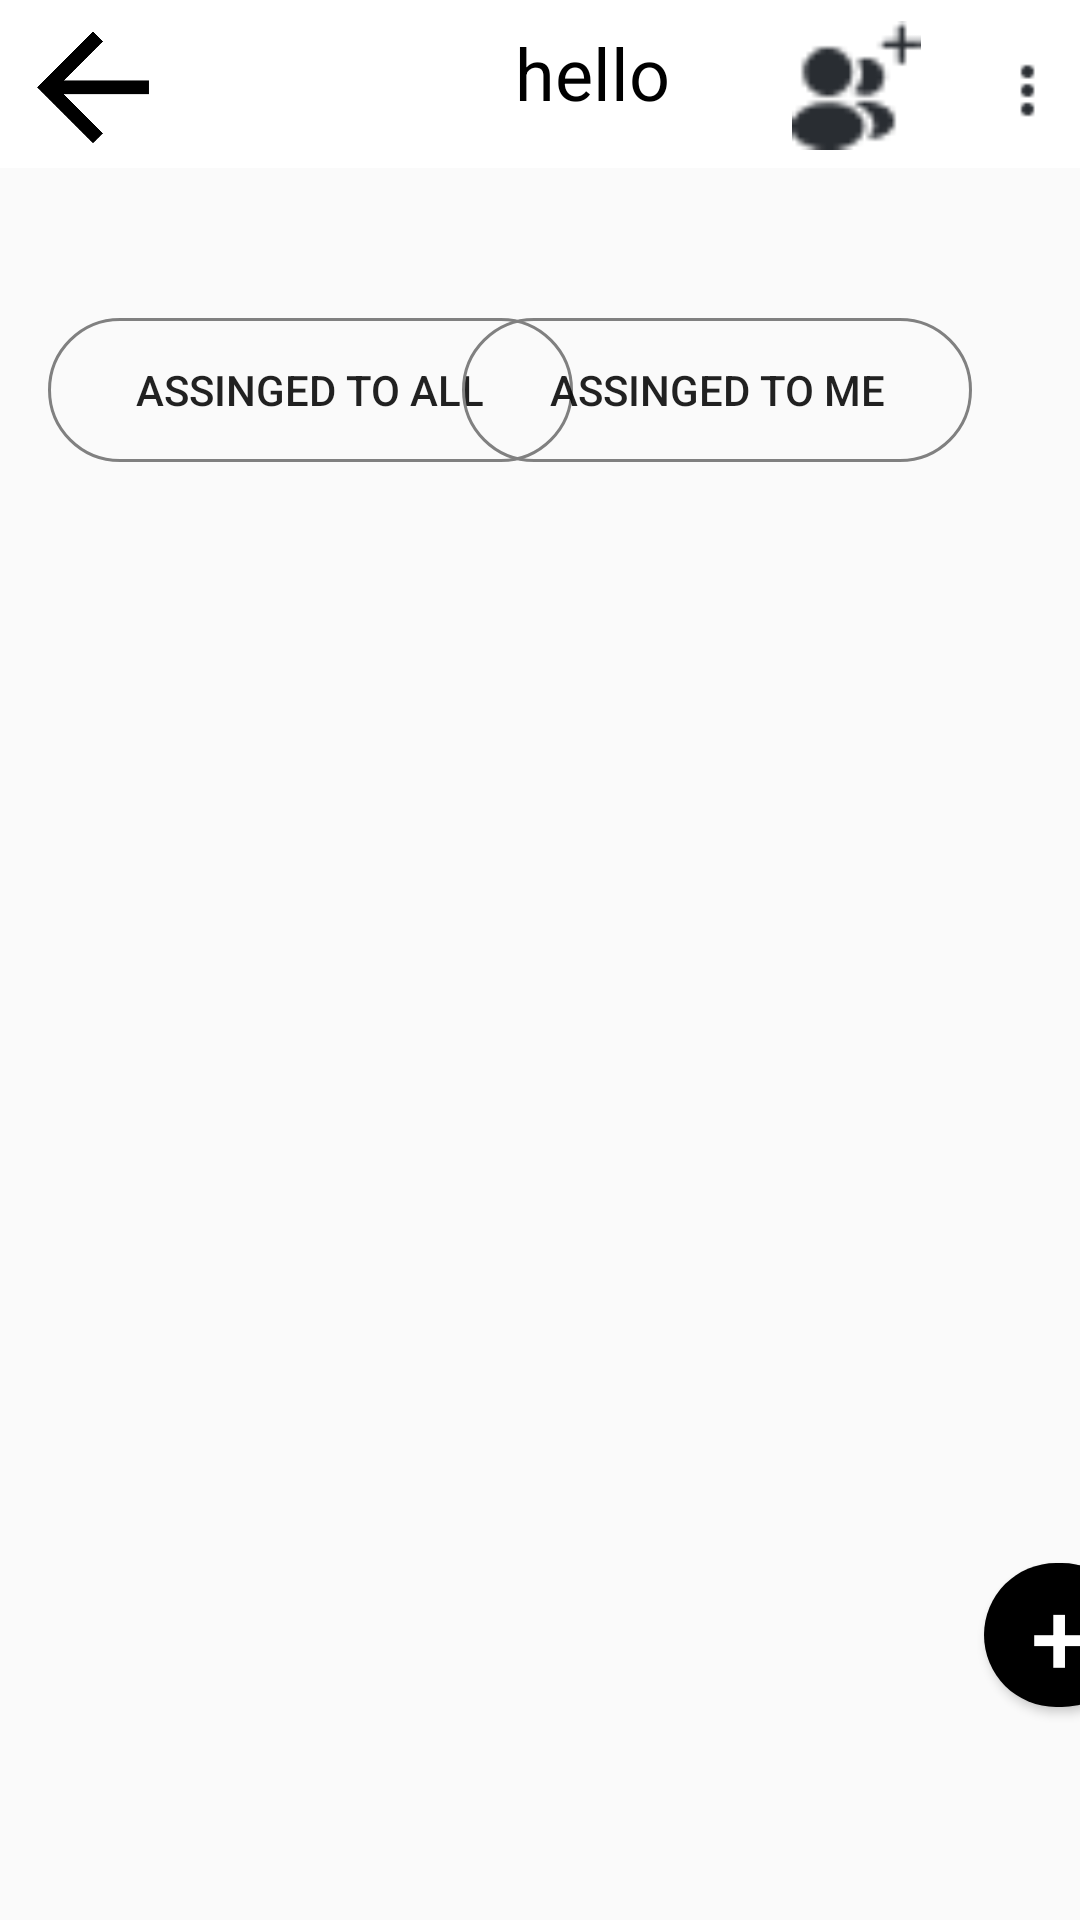

Icon click points for this 1080x1920 phone screenshot, format point (x, y):
back: point (93, 87)
